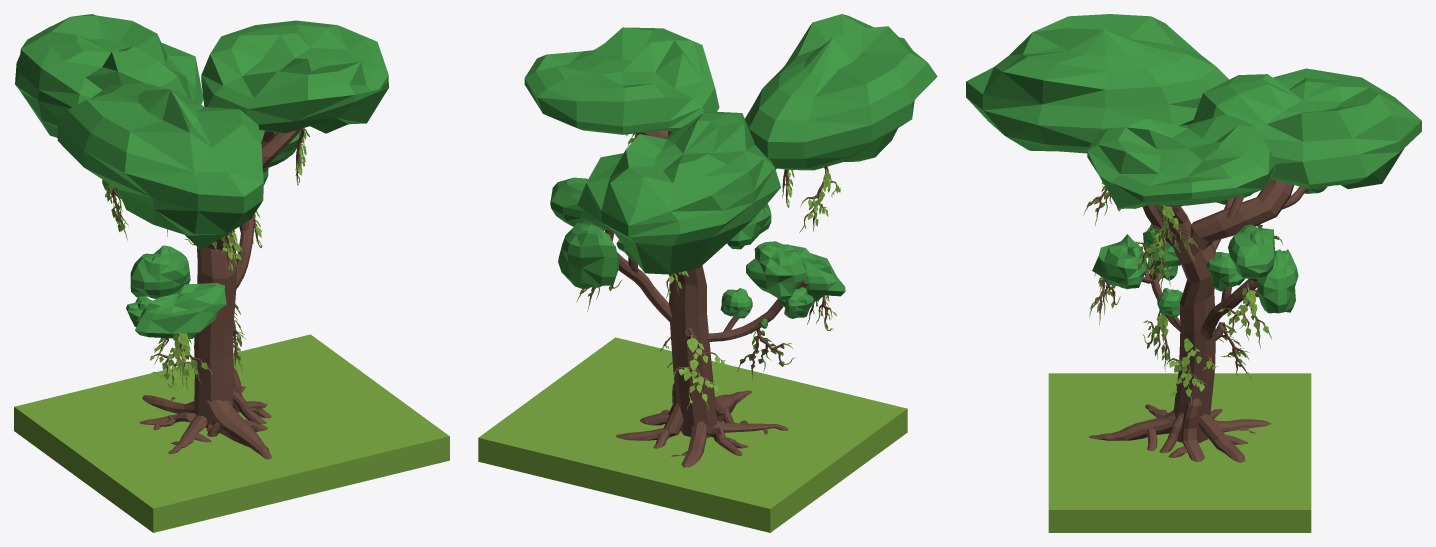
File: modelDraco.gltf
3 renders of one model, left to right at view 1: azimuth 30°, elevation 25°; view 2: azimuth 150°, elevation 25°; view 3: azimuth 270°, elevation 25°, orthographic. The views are drawn at different scales.
Visible parts, largest first — view 1: node_MeshObject-754787392-PolyPaper9, node_MeshObject-1165449024-PolyPaper10, node_MeshObject-360155840-PolyPaper9, node_MeshObject354311168-PolyPaper9, node_MeshObject-70430272-PolyPaper20, node_MeshObject-1916316032-PolyPaper10, node_MeshObject519339904-PolyPaper9; view 2: node_MeshObject-1165449024-PolyPaper10, node_MeshObject-754787392-PolyPaper9, node_MeshObject-360155840-PolyPaper9, node_MeshObject354311168-PolyPaper9, node_MeshObject-1916316032-PolyPaper10, node_MeshObject-70430272-PolyPaper20, node_MeshObject-414681792-PolyPaper20, node_MeshObject411269696-PolyPaper9; view 3: node_MeshObject-1165449024-PolyPaper10, node_MeshObject-754787392-PolyPaper9, node_MeshObject-360155840-PolyPaper9, node_MeshObject354311168-PolyPaper9, node_MeshObject-70430272-PolyPaper20, node_MeshObject411269696-PolyPaper9, node_MeshObject-1916316032-PolyPaper10, node_MeshObject-873587072-PolyPaper20.
Boxes of the visible parts, x1,y1,x2,y2 form: node_MeshObject-754787392-PolyPaper9: (14, 180, 449, 532); node_MeshObject-1165449024-PolyPaper10: (15, 14, 388, 459); node_MeshObject-360155840-PolyPaper9: (57, 83, 306, 430); node_MeshObject354311168-PolyPaper9: (107, 187, 254, 427); node_MeshObject-70430272-PolyPaper20: (135, 235, 267, 444); node_MeshObject-1916316032-PolyPaper10: (102, 138, 303, 379); node_MeshObject519339904-PolyPaper9: (151, 241, 216, 383); node_MeshObject-1165449024-PolyPaper10: (524, 27, 788, 467); node_MeshObject-754787392-PolyPaper9: (478, 169, 907, 532); node_MeshObject-360155840-PolyPaper9: (605, 14, 937, 448); node_MeshObject354311168-PolyPaper9: (617, 165, 828, 437); node_MeshObject-1916316032-PolyPaper10: (627, 139, 836, 343); node_MeshObject-70430272-PolyPaper20: (640, 169, 845, 456); node_MeshObject-414681792-PolyPaper20: (674, 328, 725, 409); node_MeshObject411269696-PolyPaper9: (683, 271, 795, 371); node_MeshObject-1165449024-PolyPaper10: (1087, 68, 1421, 462); node_MeshObject-754787392-PolyPaper9: (1048, 357, 1311, 532); node_MeshObject-360155840-PolyPaper9: (966, 14, 1307, 340); node_MeshObject354311168-PolyPaper9: (1141, 243, 1257, 442); node_MeshObject-70430272-PolyPaper20: (1086, 187, 1255, 461); node_MeshObject411269696-PolyPaper9: (1142, 178, 1294, 366); node_MeshObject-1916316032-PolyPaper10: (1090, 193, 1282, 334); node_MeshObject-873587072-PolyPaper20: (1218, 287, 1271, 349).
Bounding box in the file's own units: 1.16 × 1.35 × 1.44.
